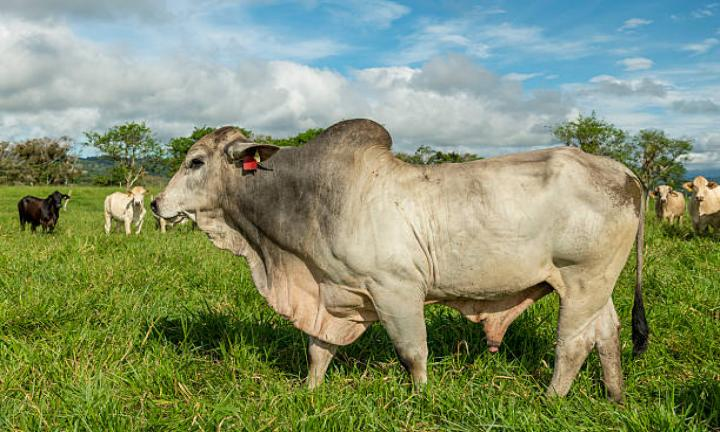Brahman: (152, 119, 642, 398)
